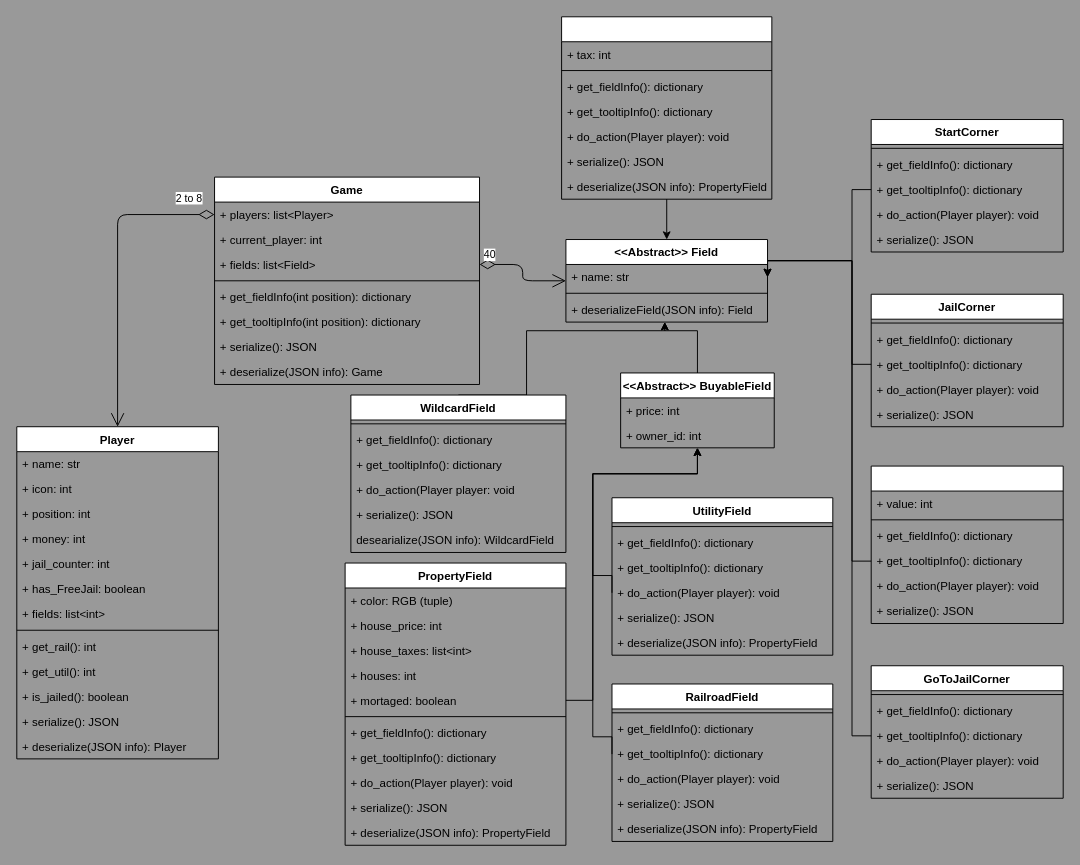
The diagram is 1080 pixels wide and 865 high, and some of its shapes have lost their labels. Each missing label, with the box of its shape:
FreeParkingCorner: (870, 465, 1063, 624)
TaxField: (561, 16, 772, 199)
